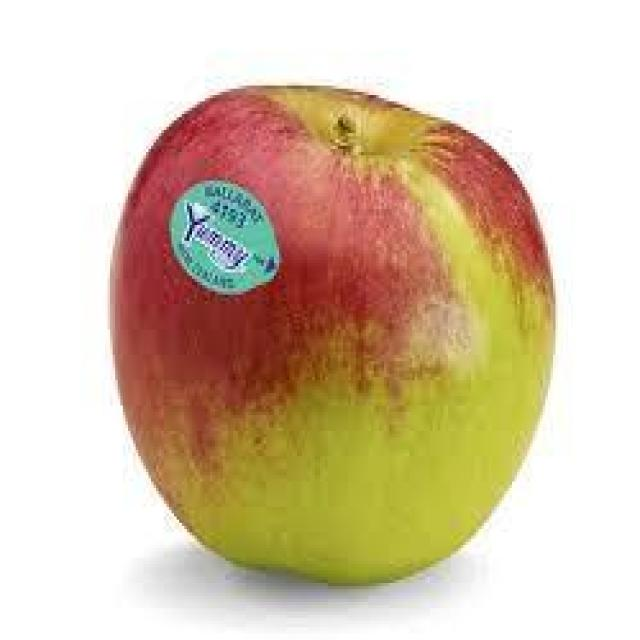maca: (105, 79, 555, 586)
